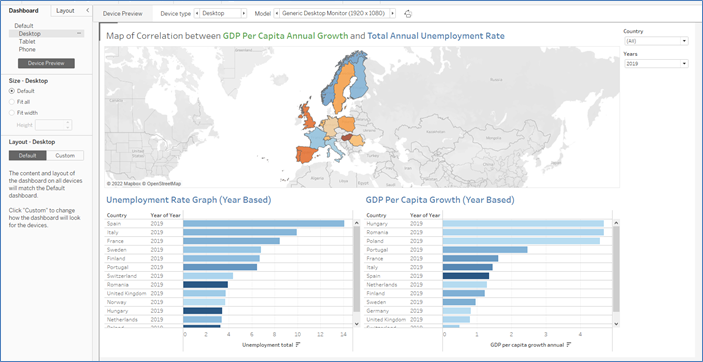

The page's visual inventory and layout, read from the dashboard file:
{"tool":"tableau","page":{"name":"First Dashboard","canvas":[1366,768],"ordinal":0},"visuals":[{"type":"worksheet","title":"Correlation Map Sheet","mark":"Automatic","box":[8,8,1190,376]},{"type":"filter","title":"Correlation Map Sheet","param":"[federated.02x9ipo03l77ns13f6wtj145hh7l].[none:Country:nk]","box":[1198,8,160,52]},{"type":"filter","title":"Unemployment Rate Sheet","param":"[federated.02x9ipo03l77ns13f6wtj145hh7l].[yr:Year:ok]","box":[1198,60,160,52]},{"type":"worksheet","title":"Unemployment Rate Sheet","mark":"Automatic","rows":["Country","Year"],"cols":["Unemployment_total"],"box":[8,384,595,376]},{"type":"worksheet","title":"GDP Per Capita Sheet","mark":"Automatic","rows":["Country","Year"],"cols":["GDP_per_capita_growth_annual"],"box":[603,384,595,376]}]}

Visuals, with their boxes on the page's 1366x768 design canvas (x1, y1, x2, y2). These are canvas units, not pixel positions in the 703x362 screenshot, which may show the page scaled, cropped or inside an application window:
"Correlation Map Sheet" worksheet: (x1=8, y1=8, x2=1198, y2=384)
"Correlation Map Sheet" filter: (x1=1198, y1=8, x2=1358, y2=60)
"Unemployment Rate Sheet" filter: (x1=1198, y1=60, x2=1358, y2=112)
"Unemployment Rate Sheet" worksheet: (x1=8, y1=384, x2=603, y2=760)
"GDP Per Capita Sheet" worksheet: (x1=603, y1=384, x2=1198, y2=760)
